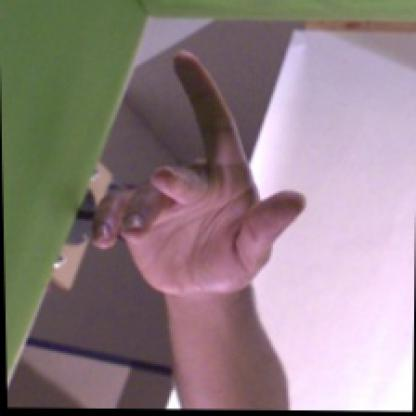Hand: (90, 49, 308, 296)
